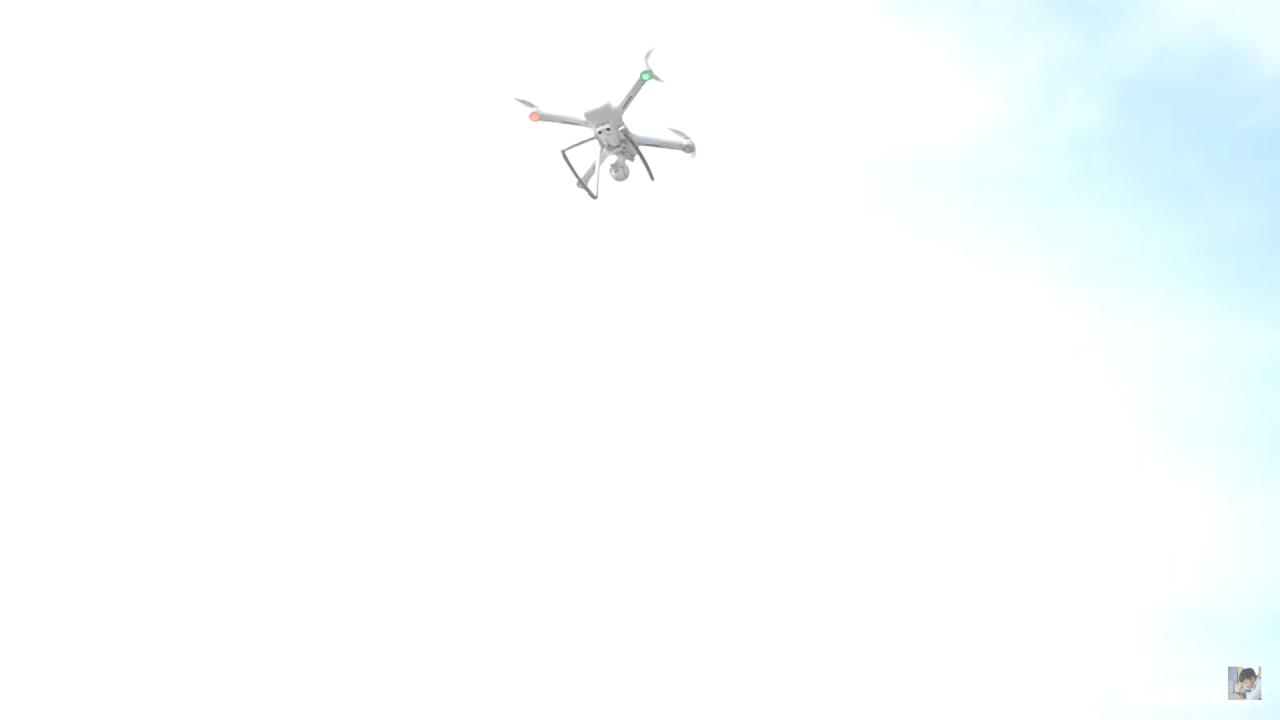Drone: (495, 33, 728, 230)
